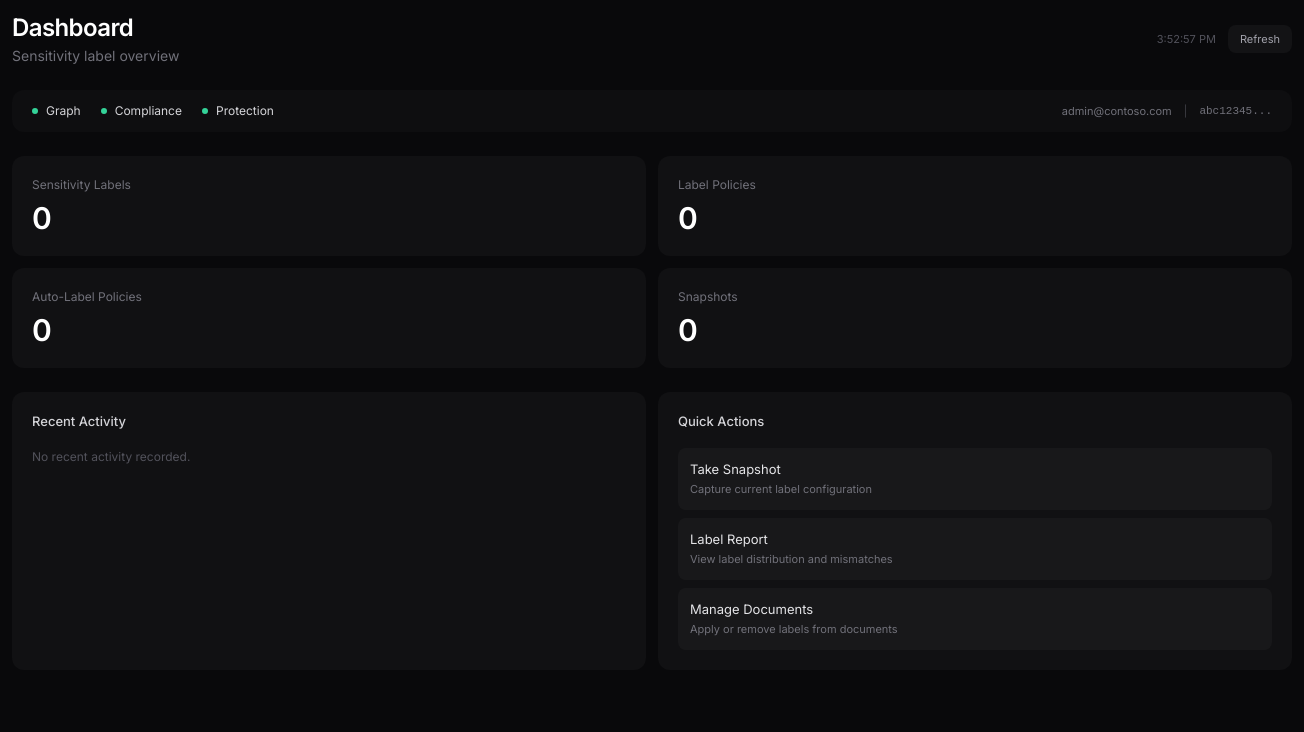
it: DashboardPage › shows snapshot success result
What coordinates should you click on to do the following:
click the text "Take Snapshot"
I would click on:
 (735, 469)
Its box is [690,460,781,479].
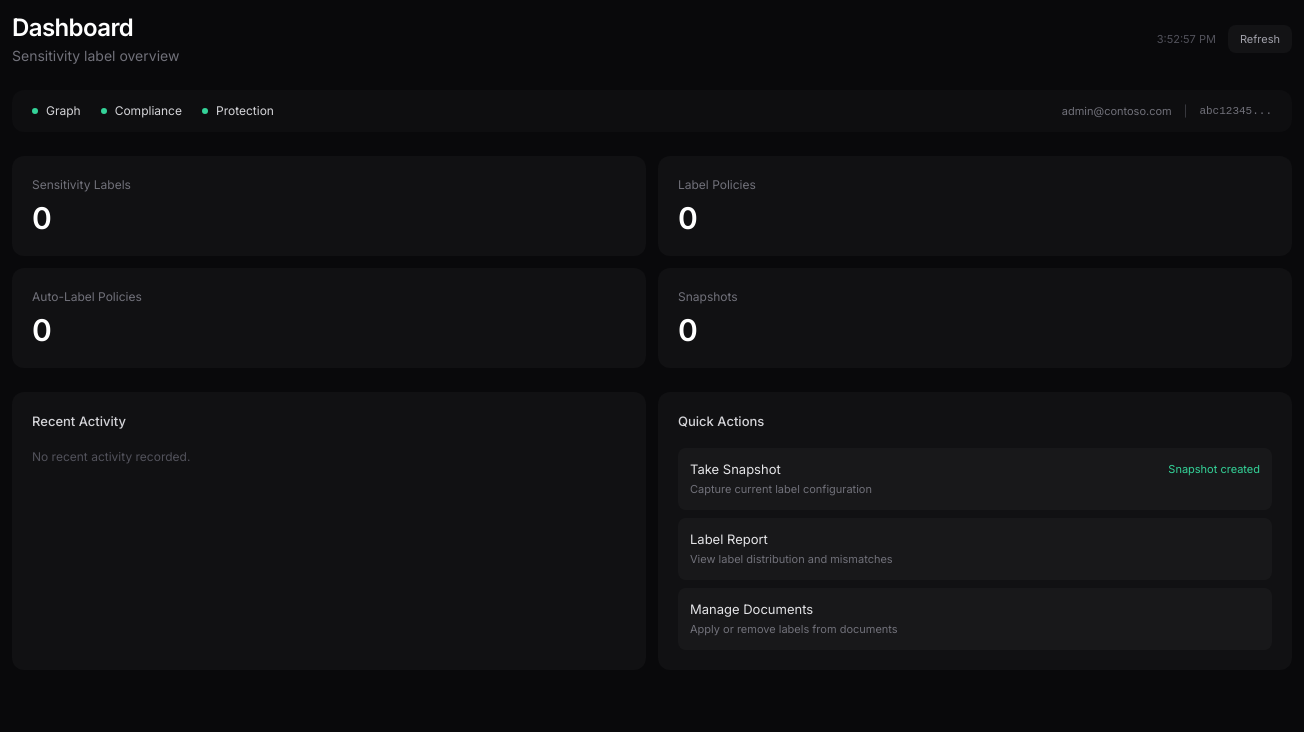
Expected: the text "Snapshot created" is shown, [1168,461,1260,478]
